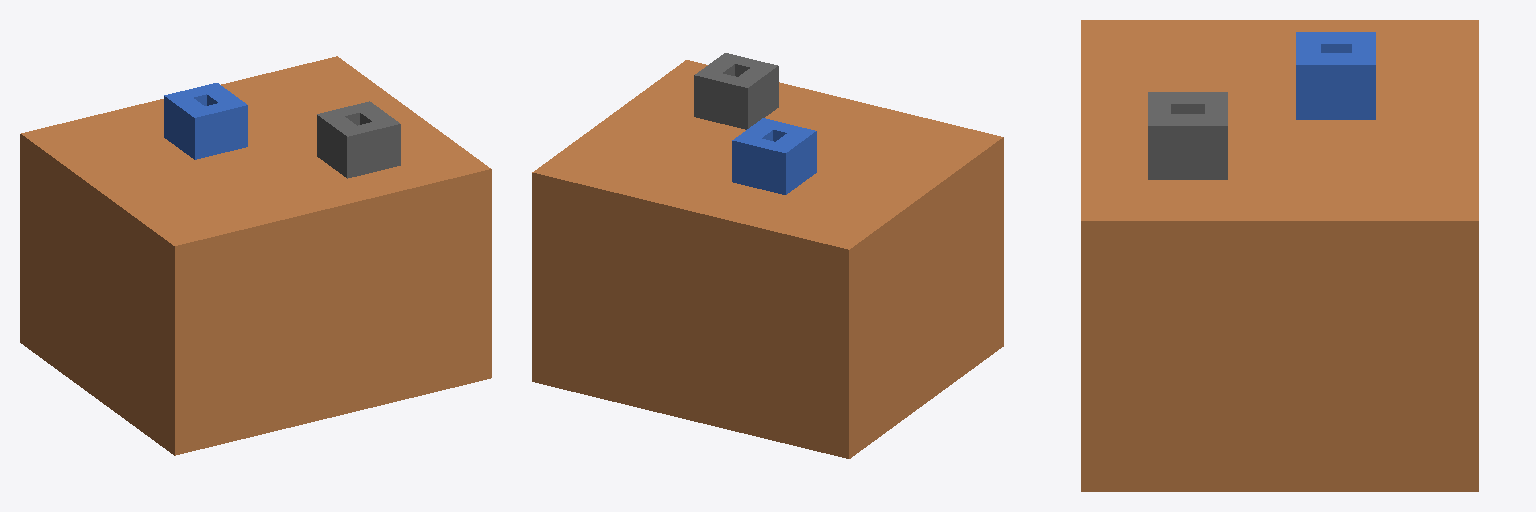
robot.urdf — peg_in_hole_fixtured_scene_0034_peg0016_tol03:
<?xml version="1.0"?>
<robot name="peg_in_hole_fixtured_scene_0034_peg0016_tol03">
  <material name="wood"><color rgba="0.82 0.56 0.35 1.0"/></material>
  <material name="start_fix"><color rgba="0.30 0.50 0.85 1.0"/></material>
  <material name="goal_fix"><color rgba="0.4706 0.4706 0.4706 1.0"/></material>
  <link name="box">
    <visual>
      <origin xyz="0.000000 0.000000 0.000000" rpy="0 0 0"/>
      <geometry><box size="0.475000 0.400000 0.300000"/></geometry>
      <material name="wood"/>
    </visual>
    <collision>
      <origin xyz="0.000000 0.000000 0.000000" rpy="0 0 0"/>
      <geometry><box size="0.475000 0.400000 0.300000"/></geometry>
    </collision>
    <visual>
      <origin xyz="-0.042350 0.056535 0.155000" rpy="0 0 0"/>
      <geometry><box size="0.080000 0.080000 0.010000"/></geometry>
      <material name="start_fix"/>
    </visual>
    <collision>
      <origin xyz="-0.042350 0.056535 0.155000" rpy="0 0 0"/>
      <geometry><box size="0.080000 0.080000 0.010000"/></geometry>
    </collision>
    <visual>
      <origin xyz="-0.017100 0.056535 0.185000" rpy="0 0 0"/>
      <geometry><box size="0.029500 0.080000 0.050000"/></geometry>
      <material name="start_fix"/>
    </visual>
    <collision>
      <origin xyz="-0.017100 0.056535 0.185000" rpy="0 0 0"/>
      <geometry><box size="0.029500 0.080000 0.050000"/></geometry>
    </collision>
    <visual>
      <origin xyz="-0.067600 0.056535 0.185000" rpy="0 0 0"/>
      <geometry><box size="0.029500 0.080000 0.050000"/></geometry>
      <material name="start_fix"/>
    </visual>
    <collision>
      <origin xyz="-0.067600 0.056535 0.185000" rpy="0 0 0"/>
      <geometry><box size="0.029500 0.080000 0.050000"/></geometry>
    </collision>
    <visual>
      <origin xyz="-0.042350 0.084285 0.185000" rpy="0 0 0"/>
      <geometry><box size="0.021000 0.024500 0.050000"/></geometry>
      <material name="start_fix"/>
    </visual>
    <collision>
      <origin xyz="-0.042350 0.084285 0.185000" rpy="0 0 0"/>
      <geometry><box size="0.021000 0.024500 0.050000"/></geometry>
    </collision>
    <visual>
      <origin xyz="-0.042350 0.028785 0.185000" rpy="0 0 0"/>
      <geometry><box size="0.021000 0.024500 0.050000"/></geometry>
      <material name="start_fix"/>
    </visual>
    <collision>
      <origin xyz="-0.042350 0.028785 0.185000" rpy="0 0 0"/>
      <geometry><box size="0.021000 0.024500 0.050000"/></geometry>
    </collision>
    <visual>
      <origin xyz="0.100572 -0.092360 0.155000" rpy="0 0 0"/>
      <geometry><box size="0.080000 0.080000 0.010000"/></geometry>
      <material name="goal_fix"/>
    </visual>
    <collision>
      <origin xyz="0.100572 -0.092360 0.155000" rpy="0 0 0"/>
      <geometry><box size="0.080000 0.080000 0.010000"/></geometry>
    </collision>
    <visual>
      <origin xyz="0.126389 -0.092360 0.185000" rpy="0 0 0"/>
      <geometry><box size="0.028366 0.080000 0.050000"/></geometry>
      <material name="goal_fix"/>
    </visual>
    <collision>
      <origin xyz="0.126389 -0.092360 0.185000" rpy="0 0 0"/>
      <geometry><box size="0.028366 0.080000 0.050000"/></geometry>
    </collision>
    <visual>
      <origin xyz="0.074755 -0.092360 0.185000" rpy="0 0 0"/>
      <geometry><box size="0.028366 0.080000 0.050000"/></geometry>
      <material name="goal_fix"/>
    </visual>
    <collision>
      <origin xyz="0.074755 -0.092360 0.185000" rpy="0 0 0"/>
      <geometry><box size="0.028366 0.080000 0.050000"/></geometry>
    </collision>
    <visual>
      <origin xyz="0.100572 -0.064043 0.185000" rpy="0 0 0"/>
      <geometry><box size="0.023268 0.023366 0.050000"/></geometry>
      <material name="goal_fix"/>
    </visual>
    <collision>
      <origin xyz="0.100572 -0.064043 0.185000" rpy="0 0 0"/>
      <geometry><box size="0.023268 0.023366 0.050000"/></geometry>
    </collision>
    <visual>
      <origin xyz="0.100572 -0.120677 0.185000" rpy="0 0 0"/>
      <geometry><box size="0.023268 0.023366 0.050000"/></geometry>
      <material name="goal_fix"/>
    </visual>
    <collision>
      <origin xyz="0.100572 -0.120677 0.185000" rpy="0 0 0"/>
      <geometry><box size="0.023268 0.023366 0.050000"/></geometry>
    </collision>
    <inertial>
      <mass value="500"/>
      <friction value="1.0"/>
      <inertia ixx="1000.0" ixy="0.0" ixz="0.0" iyy="1000.0" iyz="0.0" izz="1000.0"/>
    </inertial>
  </link>
</robot>

--- What the picture shows (computed from the rendered views, not written in the file) ---
Views: 3 orthographic renders of the robot side by side, from view 1: azimuth 30°, elevation 25°; view 2: azimuth 150°, elevation 25°; view 3: azimuth 270°, elevation 25°.
Robot: peg_in_hole_fixtured_scene_0034_peg0016_tol03 — 1 links, 0 joints (none); root link box; default pose: every joint at zero.
Visible links, largest first — view 1: box; view 2: box; view 3: box.
Link boxes in pixels (x1,y1,x2,y2): box: [20, 56, 491, 455]; box: [532, 53, 1003, 458]; box: [1081, 20, 1478, 491].
Bounding box of the posed robot: 0.475 × 0.4 × 0.36 m (x, y, z).
Geometry: primitives only (box / cylinder / sphere), no mesh files.
